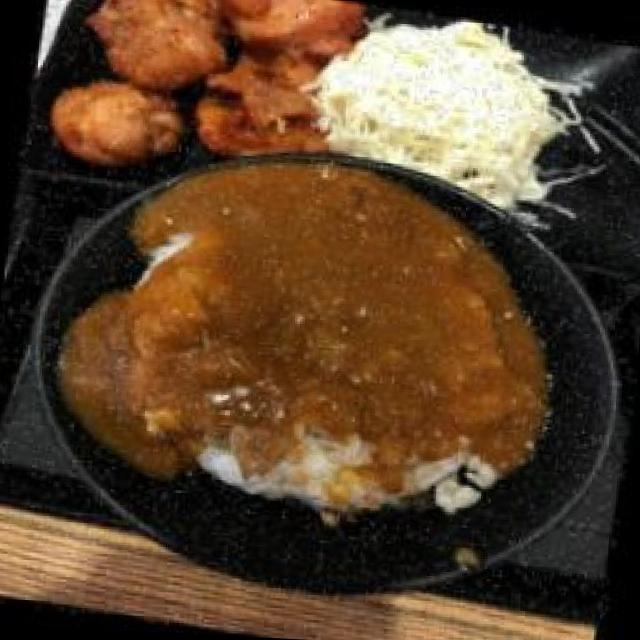curry: (32, 119, 587, 548)
